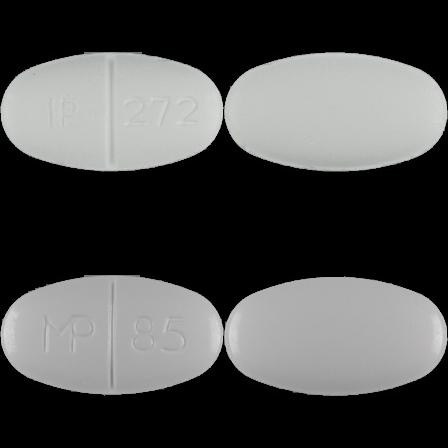51655-186: (0, 0, 224, 224)
